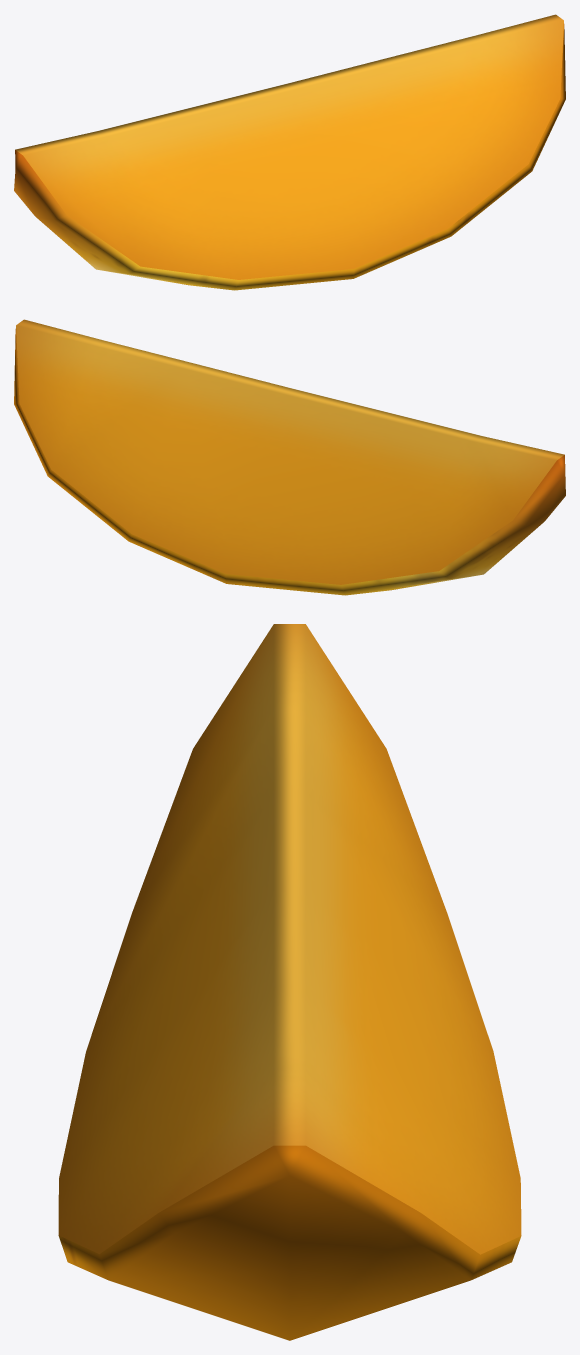
The model's file is Mango_Yellow_Slice.fbx.
3 views of the same model, one above another, from view 1: azimuth 30°, elevation 25°; view 2: azimuth 150°, elevation 25°; view 3: azimuth 270°, elevation 25° (orthographic). The views are drawn at different scales.
Parts seen in each view (by area): view 1: Mango_Yellow_Slice; view 2: Mango_Yellow_Slice; view 3: Mango_Yellow_Slice.
Part boxes in pixels (box(x1,y1,x2,y2)): Mango_Yellow_Slice: box(14, 14, 565, 290); Mango_Yellow_Slice: box(14, 319, 565, 595); Mango_Yellow_Slice: box(58, 624, 521, 1340).
Size of the model in its own units: 38.67 by 12.98 by 14.12.
